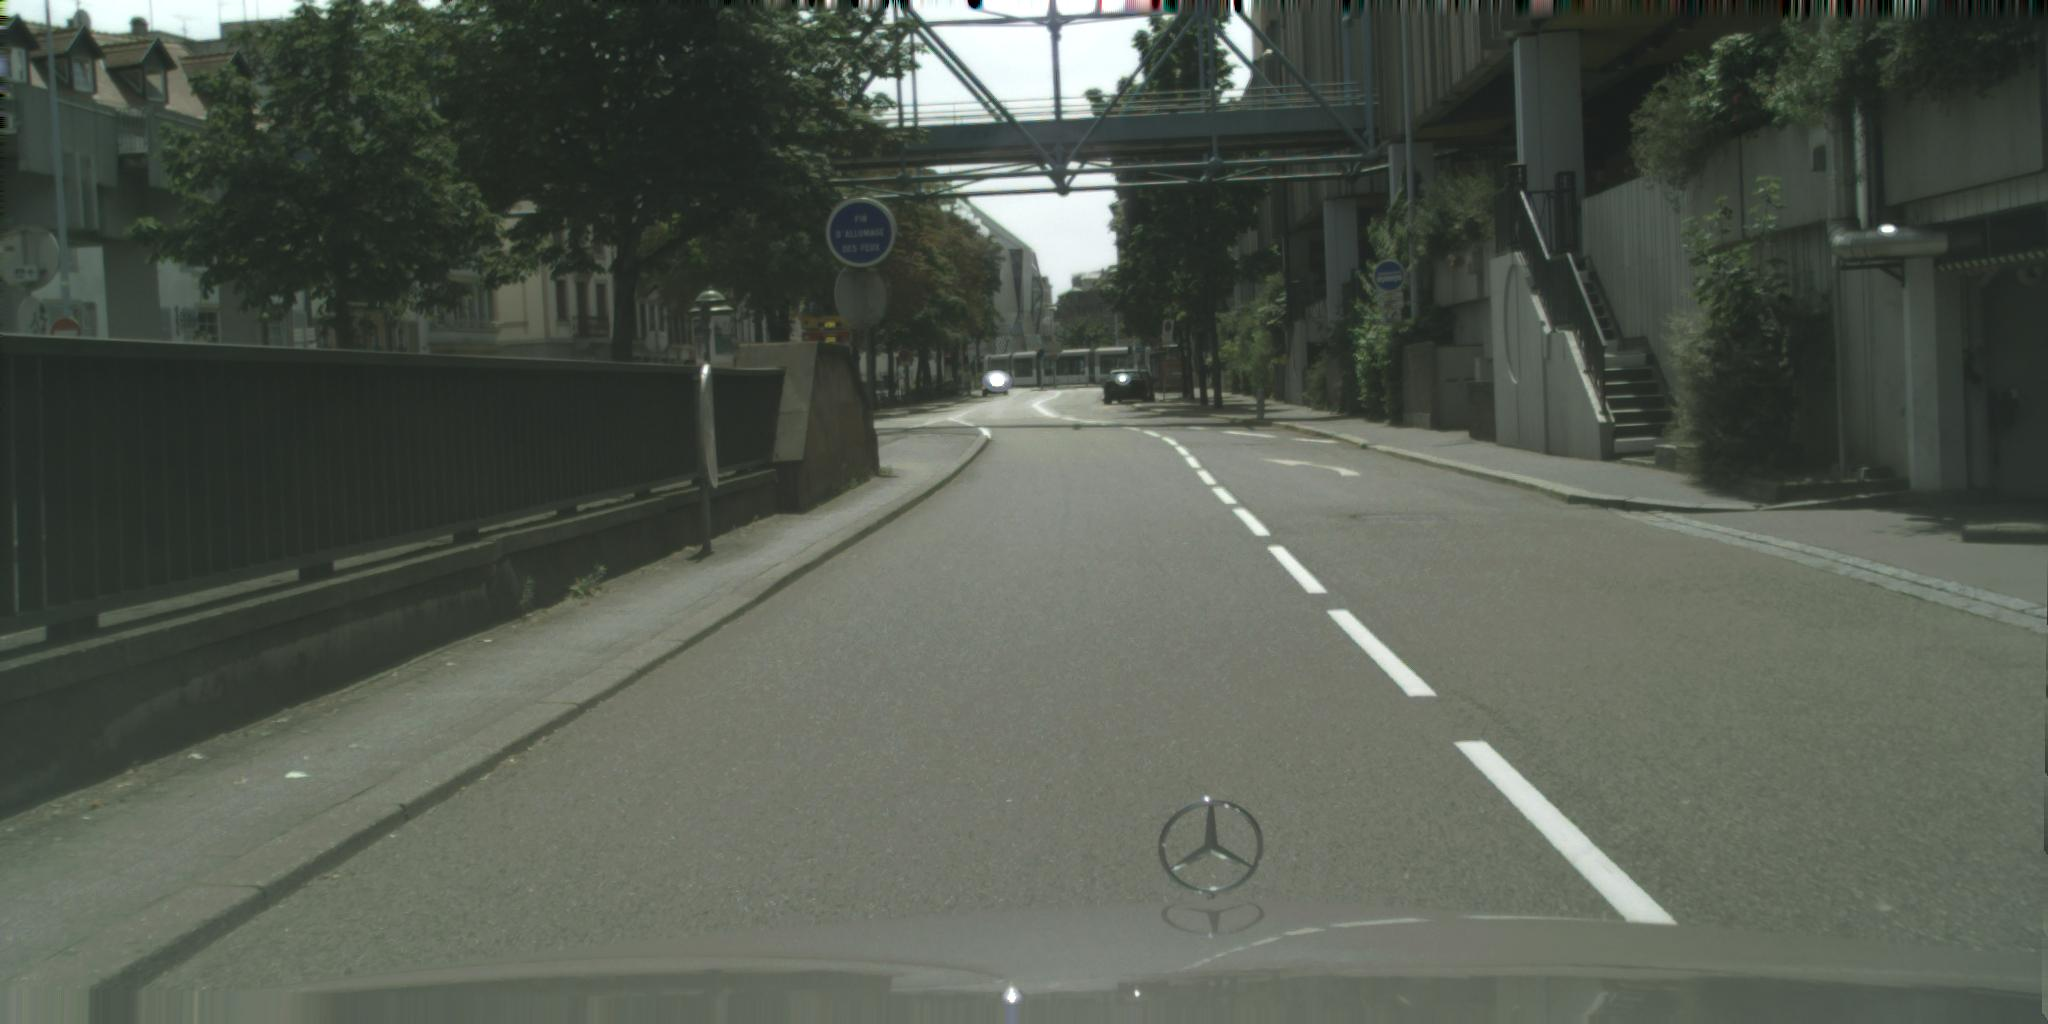car: (1105, 370, 1156, 405), (984, 370, 1012, 396)
train: (984, 344, 1194, 389)
